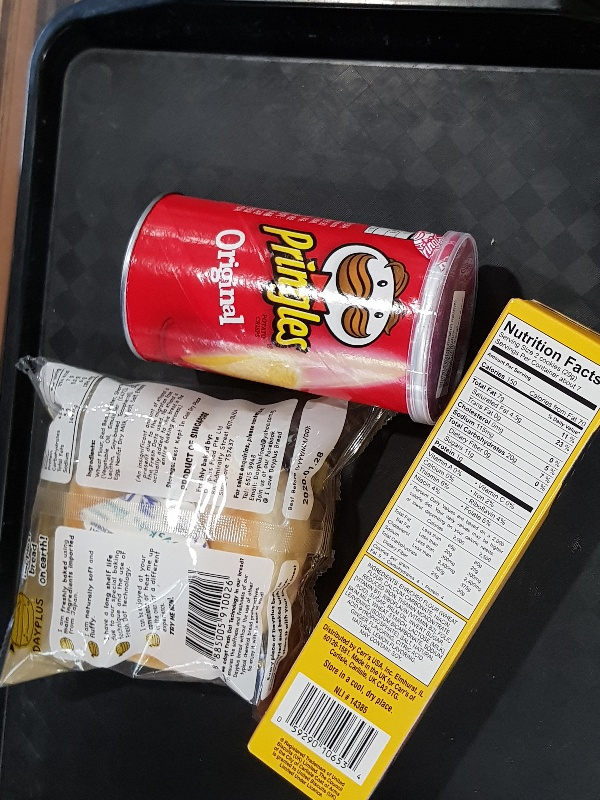Carr's Ginger Lemon Cremes: (247, 295, 598, 800)
Dayplus Red Bean: (3, 354, 383, 708)
Pringles Original: (118, 189, 478, 427)
